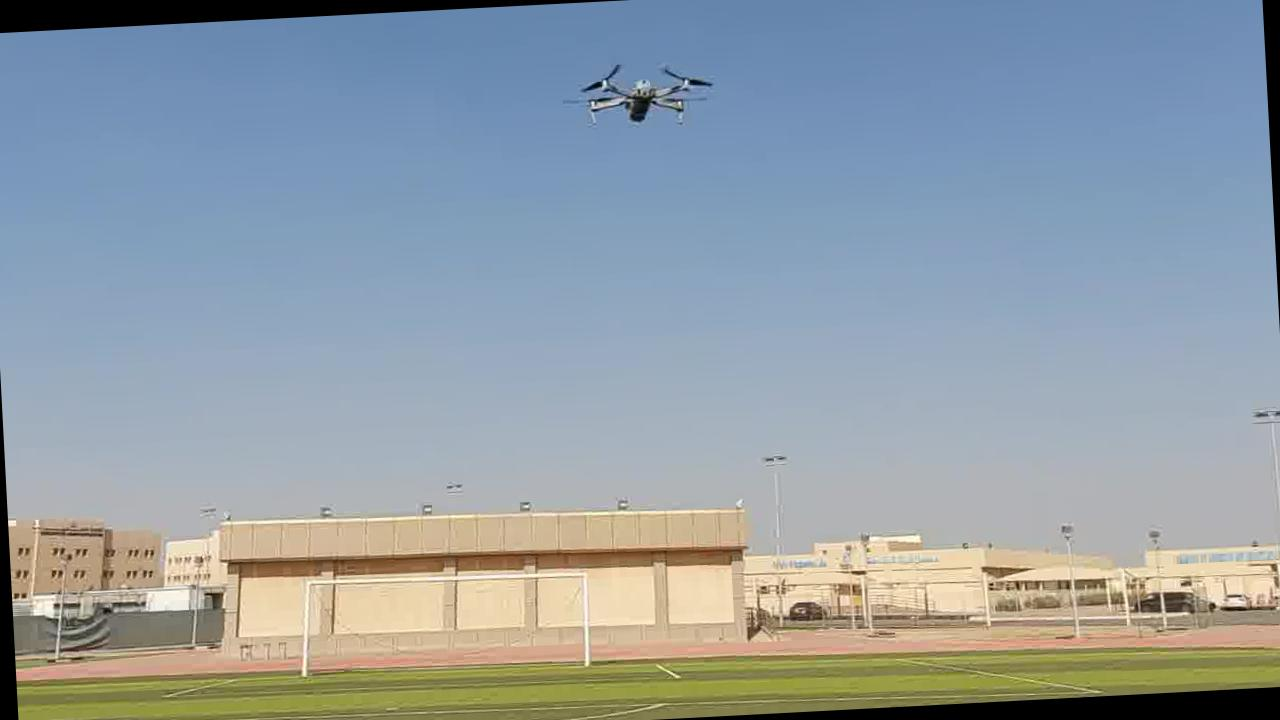drone: (569, 51, 730, 137)
